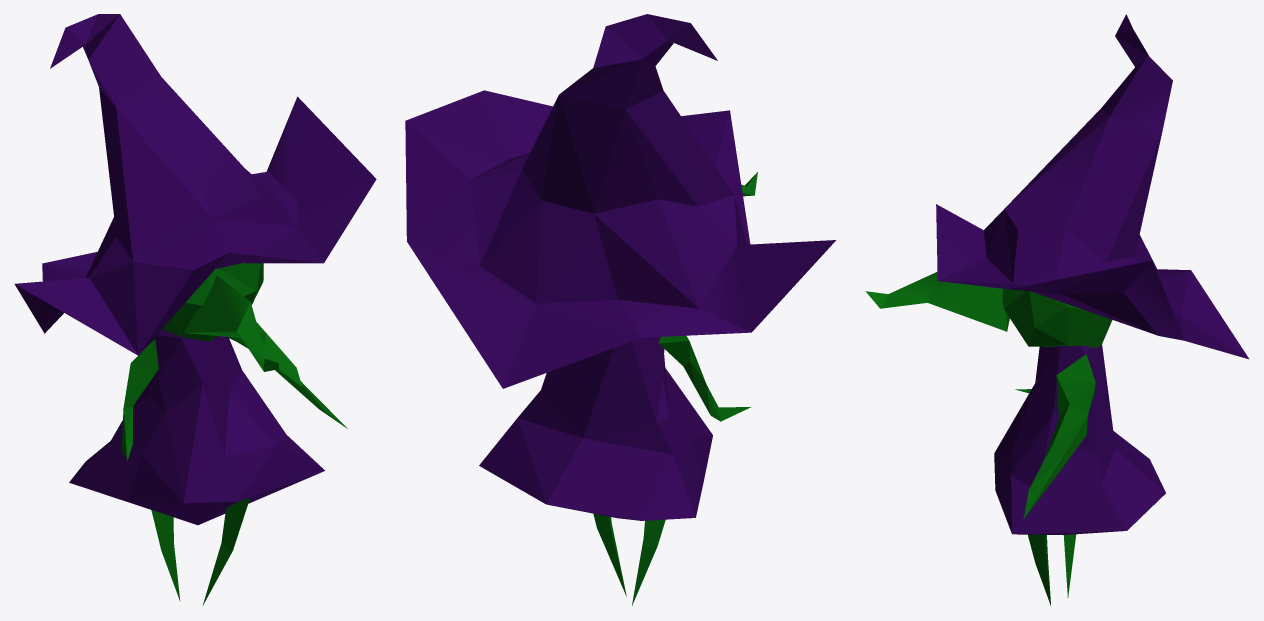
The model's file is Witch.FBX.
3 renders of one model, left to right at view 1: azimuth 30°, elevation 25°; view 2: azimuth 150°, elevation 25°; view 3: azimuth 270°, elevation 25°, orthographic. The views are drawn at different scales.
Parts seen in each view (by area): view 1: Witch; view 2: Witch; view 3: Witch.
Boxes of the visible parts, x1,y1,x2,y2 form: Witch: (14, 14, 376, 605); Witch: (405, 14, 835, 605); Witch: (865, 14, 1248, 606).
Bounding box in the file's own units: 38.62 × 39.53 × 62.36.
